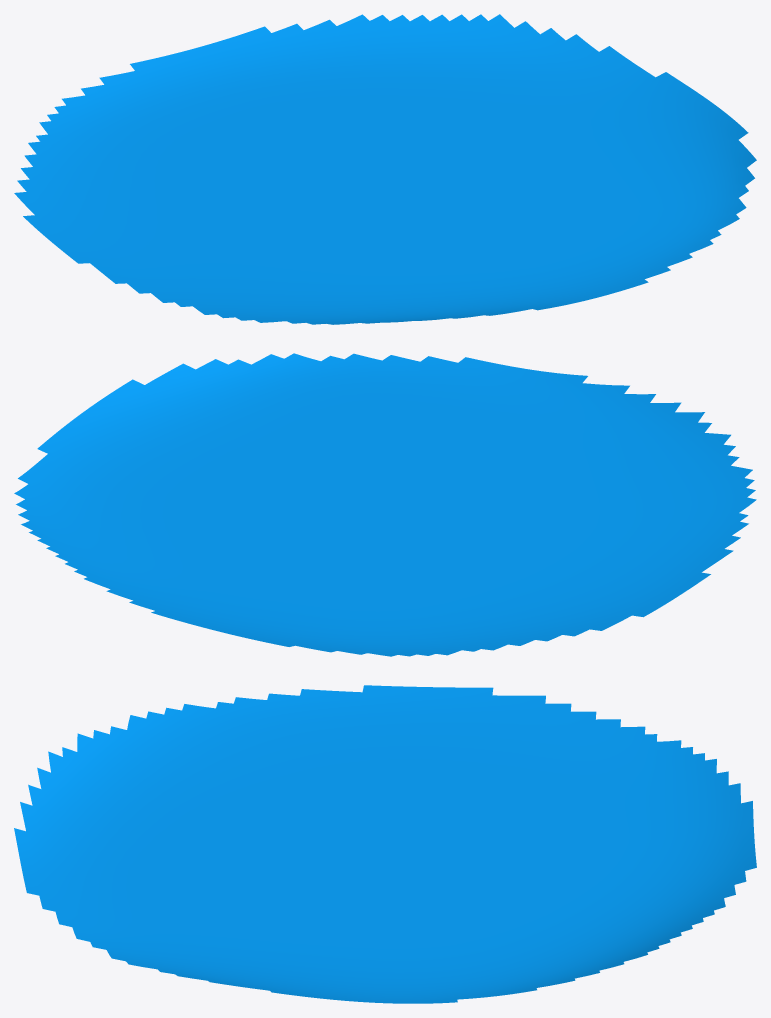
File: teleport_boundary.fbx
The picture shows the model from 3 angles, top to bottom: view 1: azimuth 30°, elevation 25°; view 2: azimuth 150°, elevation 25°; view 3: azimuth 270°, elevation 25°; orthographic projection. The views are drawn at different scales.
Parts seen in each view (by area): view 1: Landscape.002; view 2: Landscape.002; view 3: Landscape.002.
Part boxes in pixels (x1,y1,x2,y2): Landscape.002: (14,14,756,324); Landscape.002: (14,353,756,656); Landscape.002: (14,685,756,1003).
Size of the model in its own units: 3107 by 93.02 by 3020.
